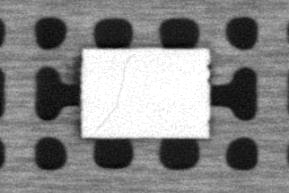DIE_CRACK: (92, 55, 129, 137)
